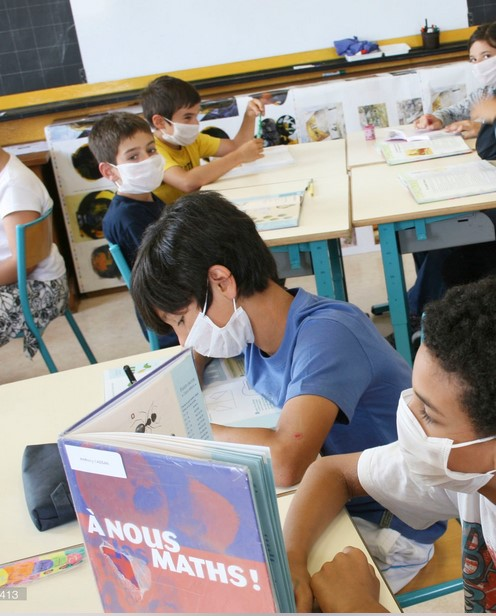face_with_mask: (397, 304, 496, 500), (148, 205, 259, 358), (98, 116, 165, 194), (151, 78, 200, 145), (461, 20, 494, 93)
